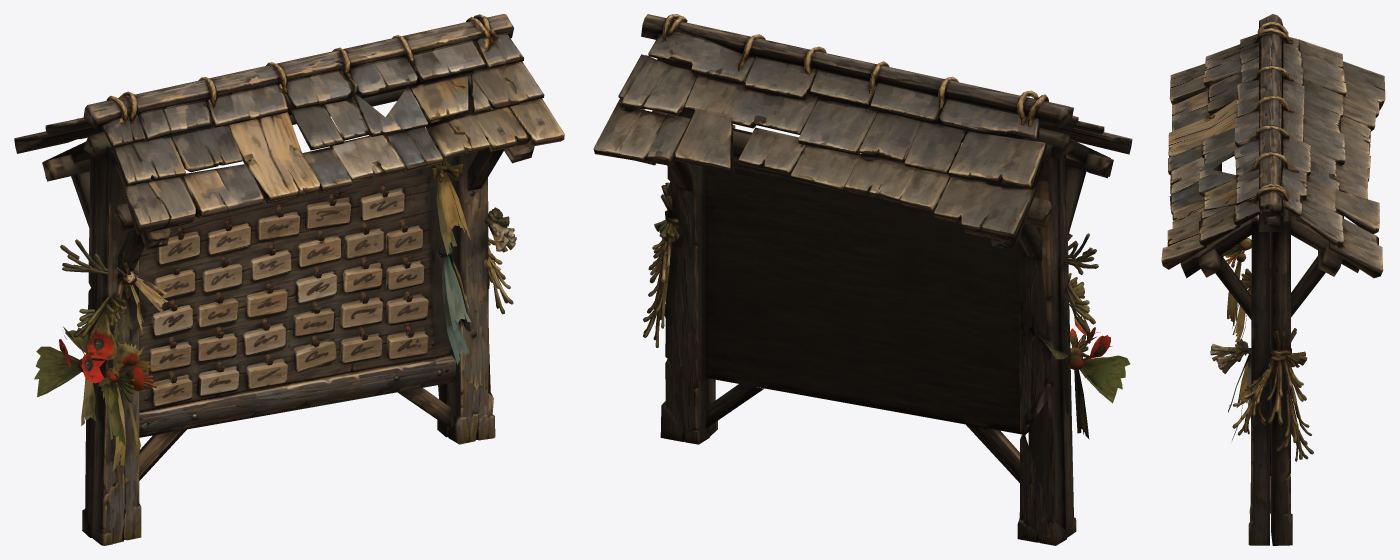
File: act1_extras_v1_name_board.glb
The picture shows the model from 3 angles, left to right: view 1: azimuth 30°, elevation 25°; view 2: azimuth 150°, elevation 25°; view 3: azimuth 270°, elevation 25°; orthographic projection. The views are drawn at different scales.
Visible parts, largest first — view 1: tripo_78ca9ccf_6db8_454d_9ad4_c7f4102fb8aa; view 2: tripo_78ca9ccf_6db8_454d_9ad4_c7f4102fb8aa; view 3: tripo_78ca9ccf_6db8_454d_9ad4_c7f4102fb8aa.
Part boxes in pixels (x1,y1,x2,y2): tripo_78ca9ccf_6db8_454d_9ad4_c7f4102fb8aa: (14,14,564,545); tripo_78ca9ccf_6db8_454d_9ad4_c7f4102fb8aa: (593,14,1132,545); tripo_78ca9ccf_6db8_454d_9ad4_c7f4102fb8aa: (1161,14,1385,545).
Size of the model in its own units: 0.9995 by 0.8892 by 0.4751.
1 material, 1 textured.
